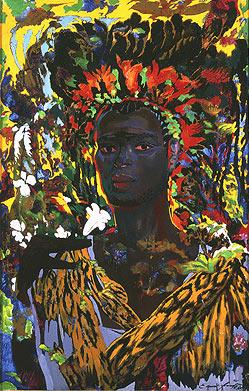person: (9, 94, 249, 391)
